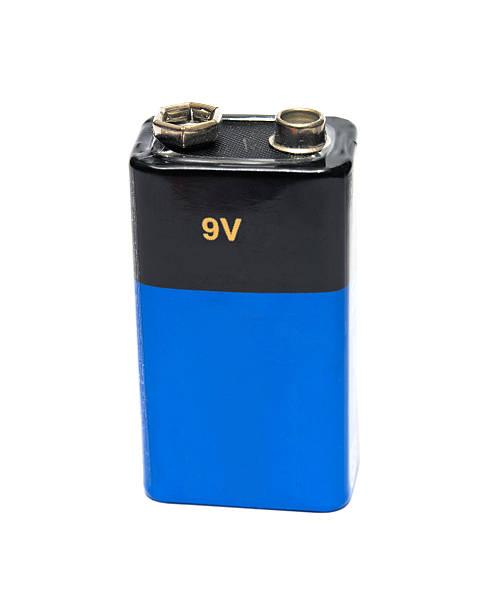9V Battery: (128, 103, 357, 515)
